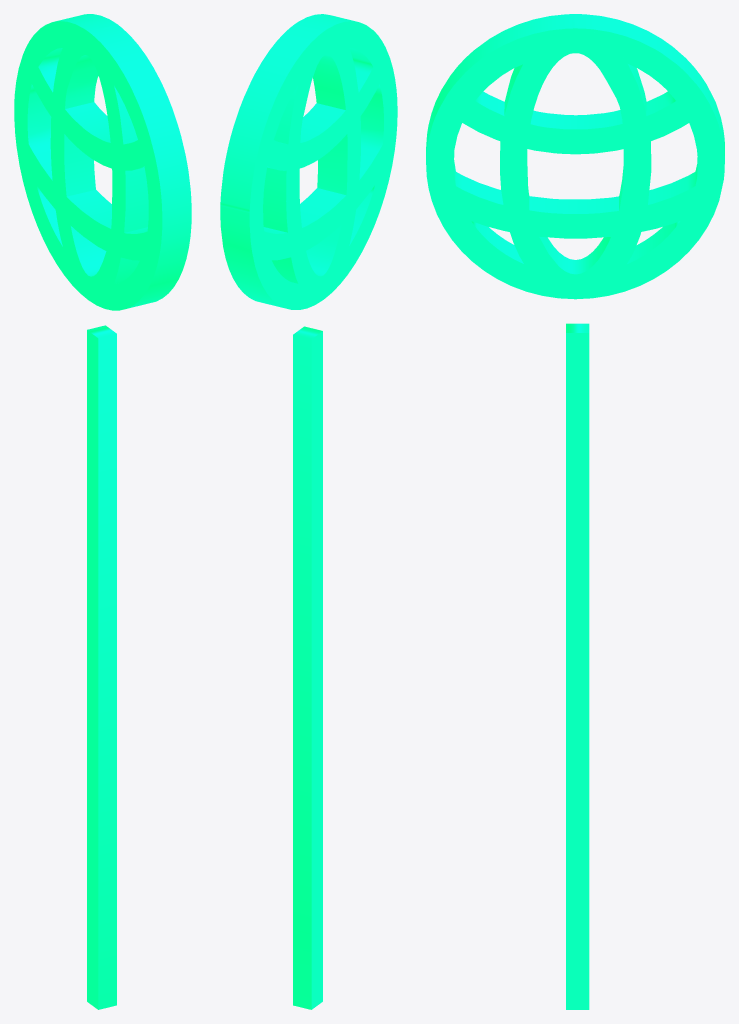
The model's file is status-connected-play.glb.
3 views of the same model, side by side, from view 1: azimuth 30°, elevation 25°; view 2: azimuth 150°, elevation 25°; view 3: azimuth 270°, elevation 25° (orthographic).
Parts seen in each view (by area): view 1: Curve.018, Curve.019, Curve.017; view 2: Curve.018, Curve.019, Curve.017; view 3: Curve.018, Curve.017, Curve.019.
Boxes of the visible parts, x1=… form: Curve.018: x1=14, y1=14, x2=191, y2=310; Curve.019: x1=87, y1=325, x2=116, y2=1009; Curve.017: x1=50, y1=24, x2=148, y2=302; Curve.018: x1=220, y1=14, x2=397, y2=309; Curve.019: x1=293, y1=326, x2=322, y2=1009; Curve.017: x1=263, y1=23, x2=360, y2=302; Curve.018: x1=426, y1=14, x2=724, y2=299; Curve.017: x1=500, y1=20, x2=651, y2=298; Curve.019: x1=566, y1=323, x2=589, y2=1009.
Bounding box in the file's own units: 0.0313 × 0.9952 × 0.2738.
